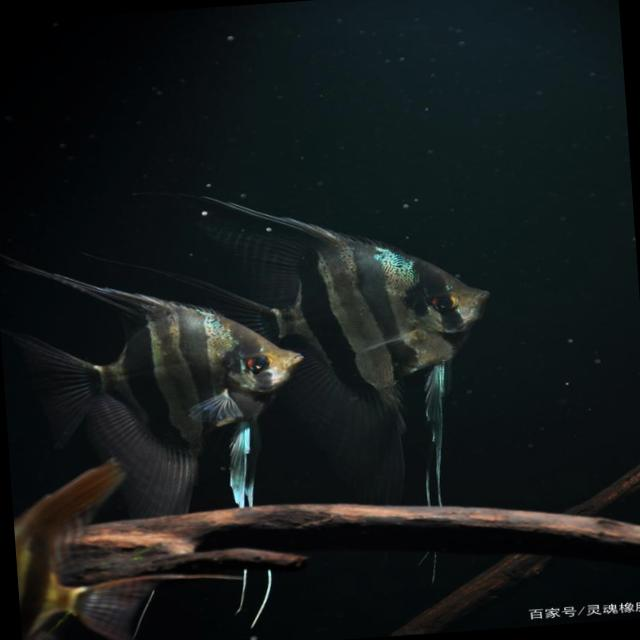AngelFish: (215, 171, 515, 588), (18, 245, 312, 552)
